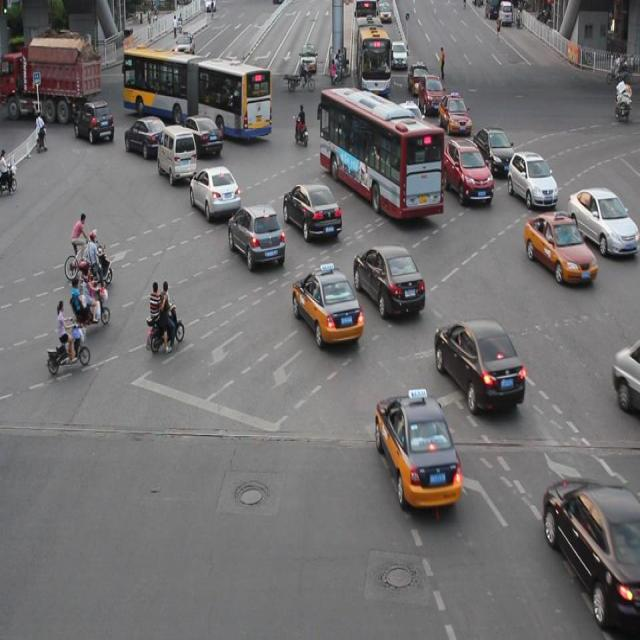car: (541, 475, 640, 631), (373, 392, 461, 509), (433, 318, 523, 411), (291, 264, 362, 345), (352, 242, 425, 318), (523, 210, 596, 284), (568, 185, 640, 256), (228, 203, 286, 269), (282, 182, 341, 238), (443, 137, 491, 203), (507, 149, 556, 209), (189, 165, 241, 220), (472, 126, 516, 178), (124, 115, 168, 158), (179, 114, 222, 158), (74, 99, 115, 143), (437, 94, 470, 136)
truck: (610, 340, 640, 416), (158, 125, 197, 182)
van: (319, 89, 441, 219), (123, 50, 272, 138)
